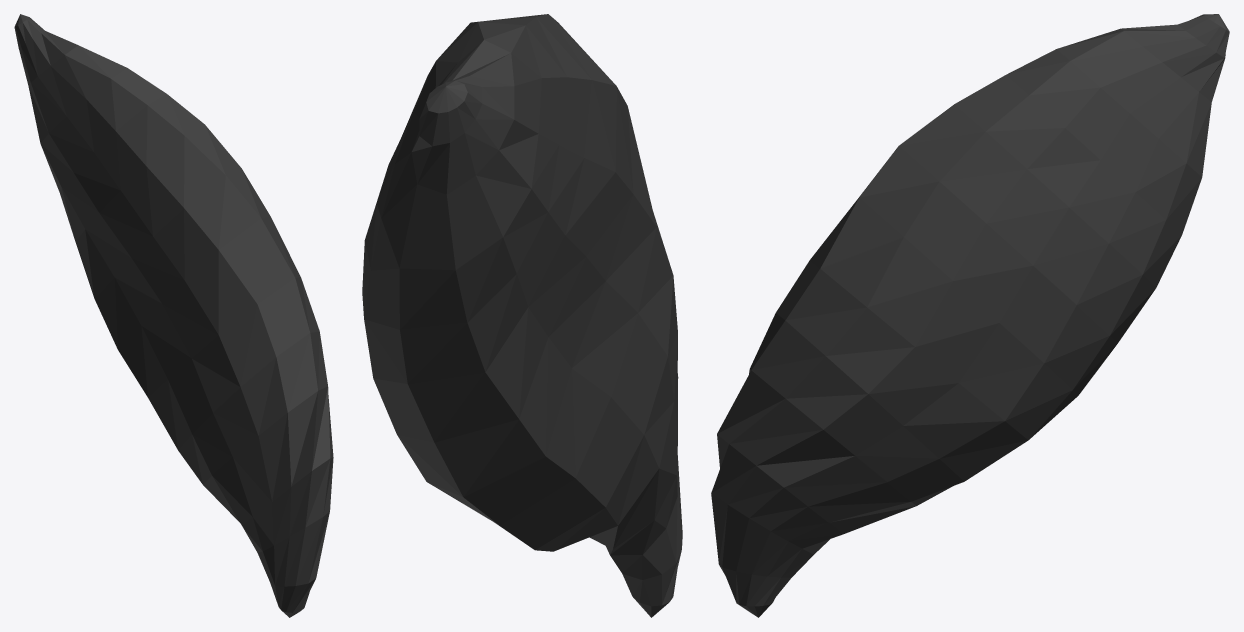
The model's file is VastusLateralis.glb.
The picture shows the model from 3 angles, left to right: view 1: azimuth 30°, elevation 25°; view 2: azimuth 150°, elevation 25°; view 3: azimuth 270°, elevation 25°; orthographic projection. The views are drawn at different scales.
Visible parts, largest first — view 1: VastusLateralis; view 2: VastusLateralis; view 3: VastusLateralis.
Boxes of the visible parts, x1,y1,x2,y2 form: VastusLateralis: [14, 14, 333, 617]; VastusLateralis: [362, 14, 682, 617]; VastusLateralis: [711, 14, 1229, 617].
Size of the model in its own units: 1.98 by 5.85 by 4.89.
Materials: 1 (1 with a texture image).
